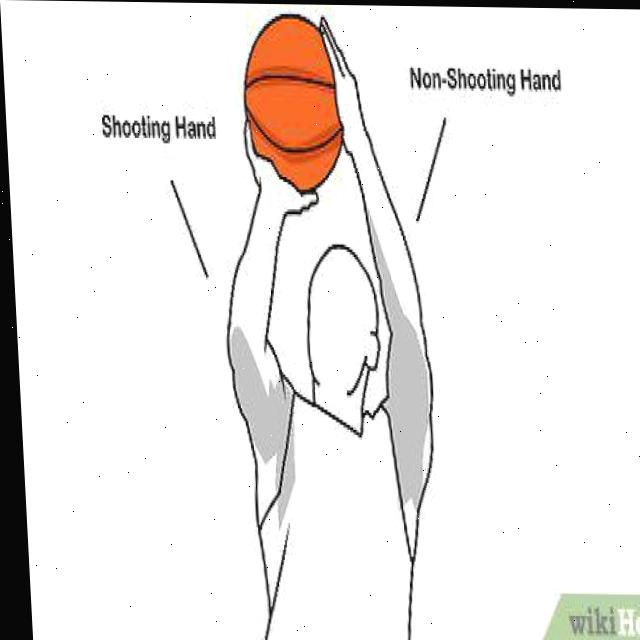basketball: (240, 11, 347, 196)
